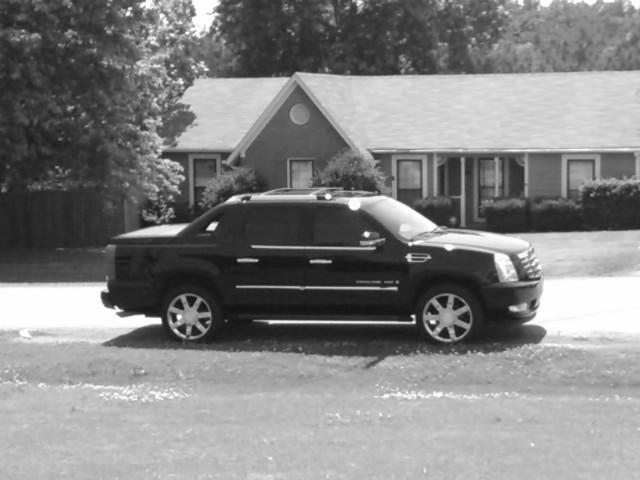car: (102, 187, 546, 353)
